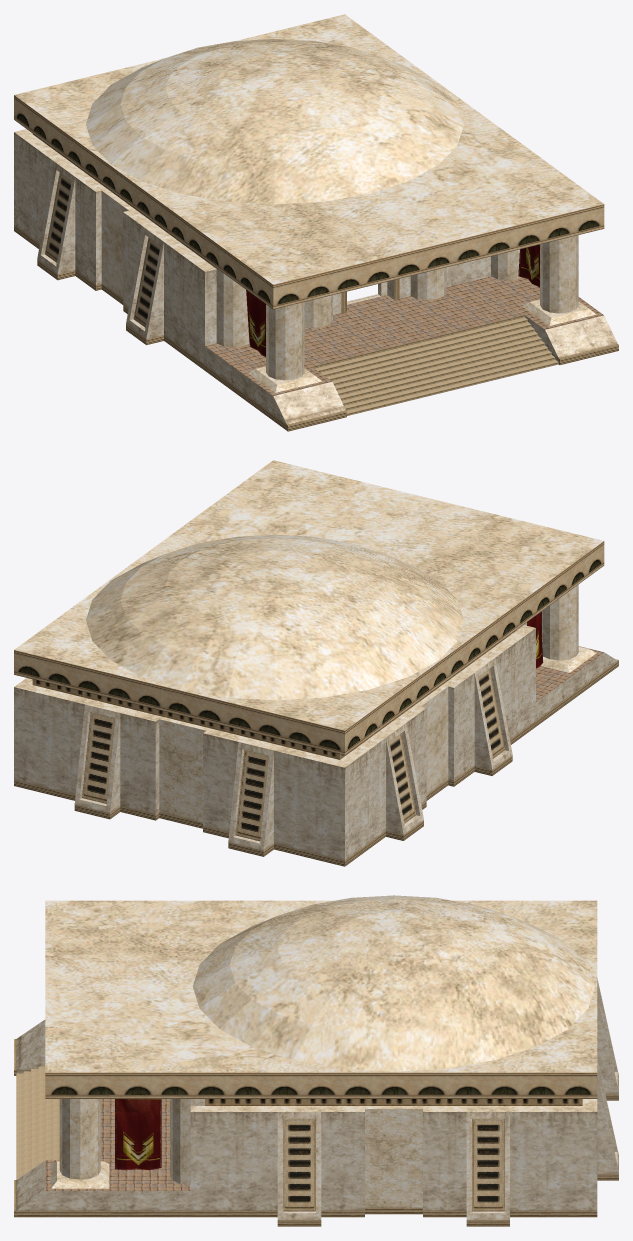
Rendered from mun_tato_guild_university_s01_r0_exterior_mesh_exterior_l0.fbx.
The picture shows the model from 3 angles, top to bottom: view 1: azimuth 30°, elevation 25°; view 2: azimuth 150°, elevation 25°; view 3: azimuth 270°, elevation 25°; orthographic projection. The views are drawn at different scales.
Visible parts, largest first — view 1: mesh_node; view 2: mesh_node; view 3: mesh_node.
Part boxes in pixels (x1,y1,x2,y2): mesh_node: [14, 14, 618, 431]; mesh_node: [14, 460, 618, 866]; mesh_node: [14, 895, 618, 1226].
Size of the model in its own units: 38.75 by 18.75 by 52.08.
